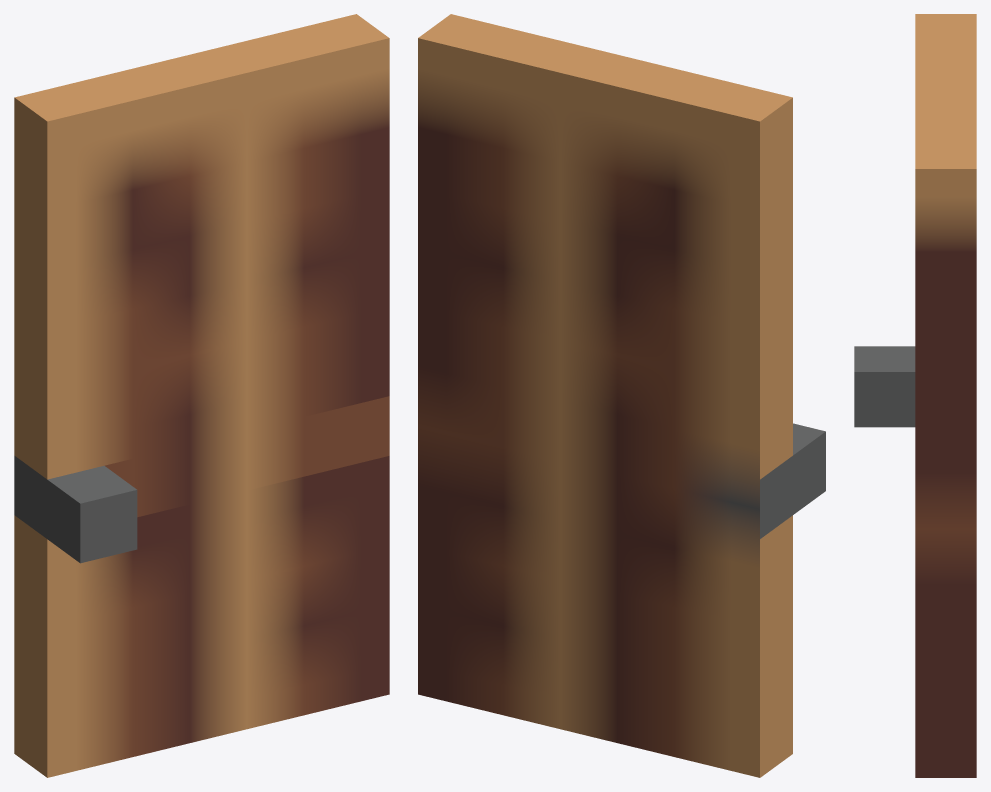
Rendered from door_4.fbx.
The picture shows the model from 3 angles, left to right: view 1: azimuth 30°, elevation 25°; view 2: azimuth 150°, elevation 25°; view 3: azimuth 270°, elevation 25°; orthographic projection. The views are drawn at different scales.
Parts seen in each view (by area): view 1: door_4; view 2: door_4; view 3: door_4.
Boxes of the visible parts, <box> form: door_4: <box>14,14,389,777</box>; door_4: <box>418,14,825,777</box>; door_4: <box>854,14,976,777</box>.
Size of the model in its own units: 6 by 11 by 2.
